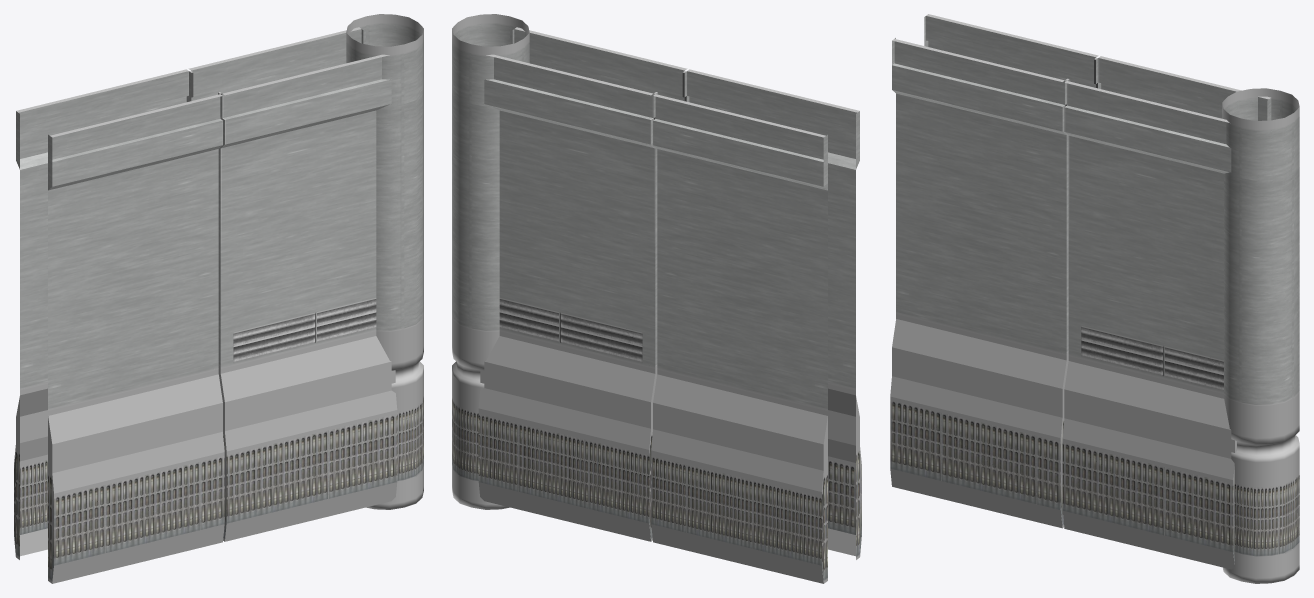
File: machine wall.glb
3 renders of one model, left to right at view 1: azimuth 30°, elevation 25°; view 2: azimuth 150°, elevation 25°; view 3: azimuth 330°, elevation 25°, orthographic.
Parts seen in each view (by area): view 1: machine_wall; view 2: machine_wall; view 3: machine_wall.
Part boxes in pixels (<box>): machine_wall: <box>14,14,423,583</box>; machine_wall: <box>452,14,861,583</box>; machine_wall: <box>890,14,1299,583</box>.
Size of the model in its own units: 5.78 by 6.66 by 1.04.
Materials: 1 (1 with a texture image).
